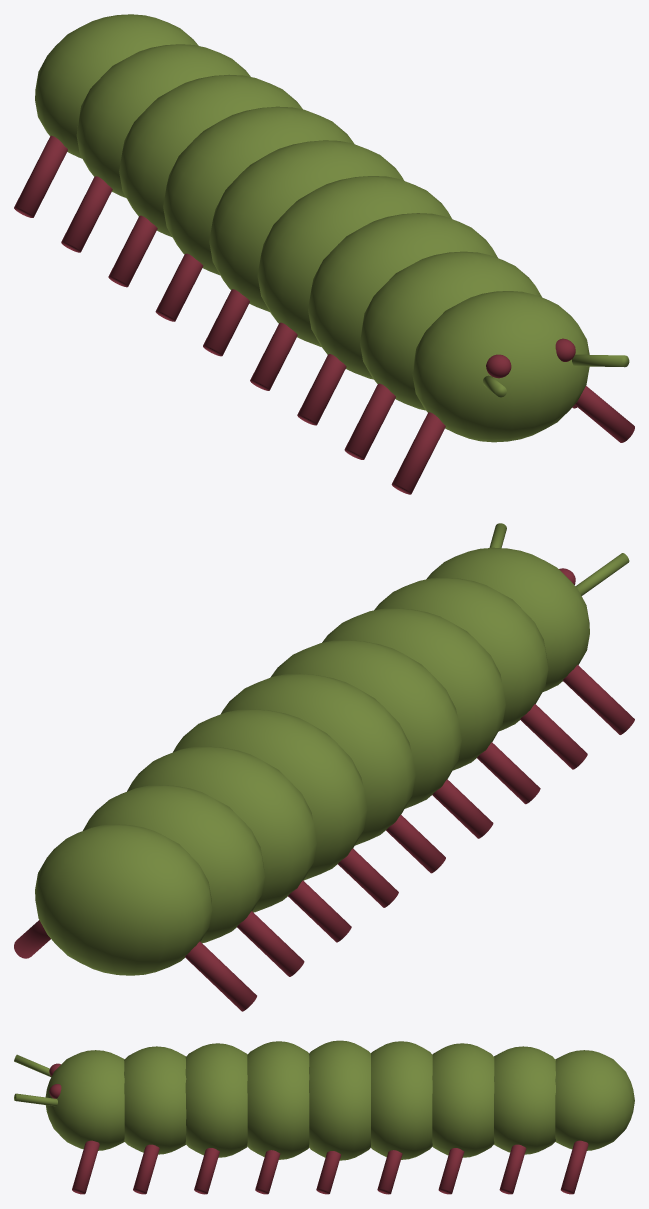
File: worm.glb
The picture shows the model from 3 angles, top to bottom: view 1: azimuth 30°, elevation 25°; view 2: azimuth 150°, elevation 25°; view 3: azimuth 270°, elevation 25°; orthographic projection. The views are drawn at different scales.
Visible parts, largest first — view 1: segment0_tissue.004, segment3_tissue.004, segment2_tissue.004, segment4_tissue.004, segment1_tissue.004, segment5_tissue.004, segment6_tissue.004, segment7_tissue.004, segment8_tissue.004, segment0_lesion.004, segment8_lesion.004, segment1_lesion.004 (+6 smaller); view 2: segment8_tissue.004, segment5_tissue.004, segment6_tissue.004, segment4_tissue.004, segment7_tissue.004, segment3_tissue.004, segment2_tissue.004, segment0_tissue.004, segment1_tissue.004, segment8_lesion.004, segment0_lesion.004, segment1_lesion.004 (+6 smaller); view 3: segment0_tissue.004, segment4_tissue.004, segment3_tissue.004, segment5_tissue.004, segment8_tissue.004, segment6_tissue.004, segment2_tissue.004, segment1_tissue.004, segment7_tissue.004, segment0_lesion.004, segment8_lesion.004, segment7_lesion.004 (+6 smaller).
Boxes of the visible parts, x1,y1,x2,y2 form: segment0_tissue.004: (412,291,629,442); segment3_tissue.004: (257,176,451,346); segment2_tissue.004: (308,213,497,379); segment4_tissue.004: (209,140,404,311); segment1_tissue.004: (360,251,542,410); segment5_tissue.004: (163,106,354,275); segment6_tissue.004: (119,74,302,236); segment7_tissue.004: (76,44,250,197); segment8_tissue.004: (35,14,198,158); segment0_lesion.004: (391,338,634,494); segment8_lesion.004: (14,135,67,217); segment1_lesion.004: (344,383,577,459); segment8_tissue.004: (35,824,212,975); segment5_tissue.004: (173,709,367,880); segment6_tissue.004: (127,746,316,912); segment4_tissue.004: (221,673,415,845); segment7_tissue.004: (83,785,264,943); segment3_tissue.004: (270,640,461,808); segment2_tissue.004: (322,608,505,770); segment0_tissue.004: (426,523,629,691); segment1_tissue.004: (374,577,548,731); segment8_lesion.004: (14,920,256,1011); segment0_lesion.004: (559,568,634,734); segment1_lesion.004: (520,704,587,769); segment0_tissue.004: (14,1050,124,1150); segment4_tissue.004: (309,1040,370,1160); segment3_tissue.004: (247,1041,309,1159); segment5_tissue.004: (371,1041,432,1159); segment8_tissue.004: (555,1050,634,1150); segment6_tissue.004: (432,1043,494,1157); segment2_tissue.004: (185,1043,247,1157); segment1_tissue.004: (124,1046,186,1154); segment7_tissue.004: (494,1046,555,1154); segment0_lesion.004: (49,1063,99,1194); segment8_lesion.004: (560,1140,588,1194); segment7_lesion.004: (499,1144,526,1194).
Size of the model in its own units: 0.4253 by 0.2932 by 1.47.
